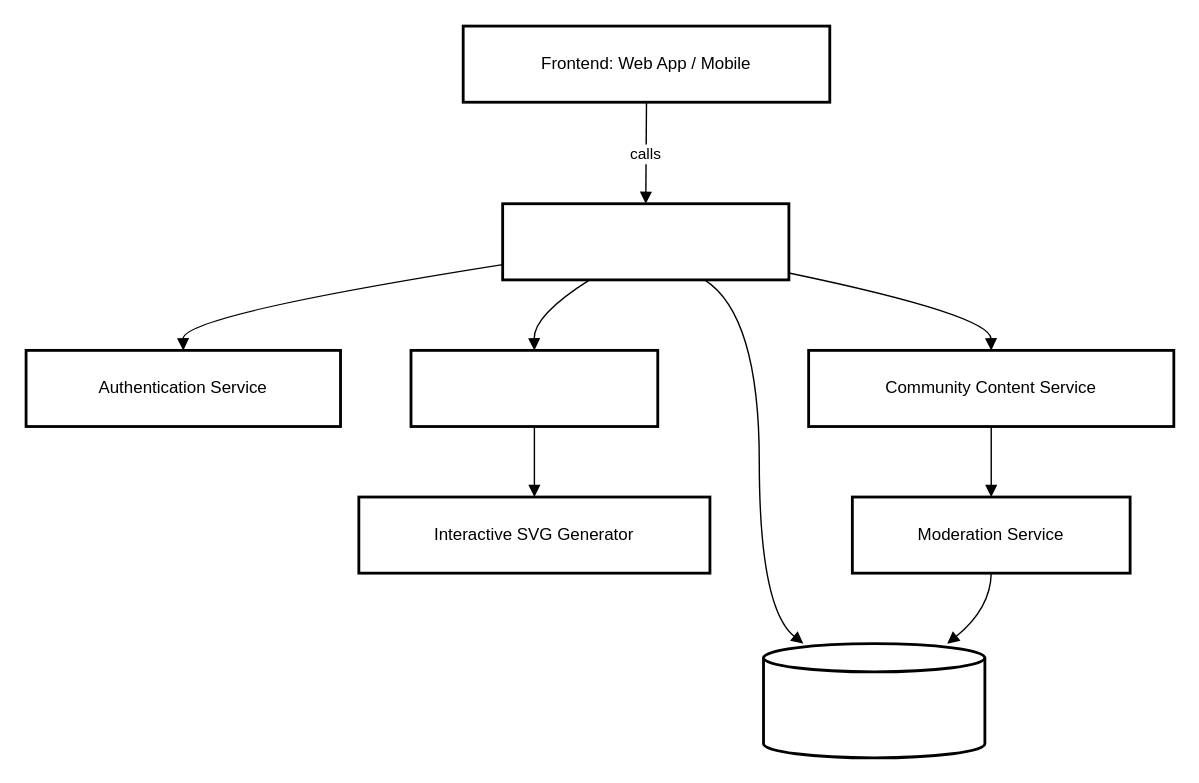
The diagram is 1199 pixels wide and 783 high, and some of its shapes have lost their labels. Here are the shapes that lost their labels. From the top down, the centre of each, then its label:
At (x=645, y=241): "Backend API Service".
At (x=533, y=387): "AI Agent Module".
At (x=873, y=700): "Relational Database".
